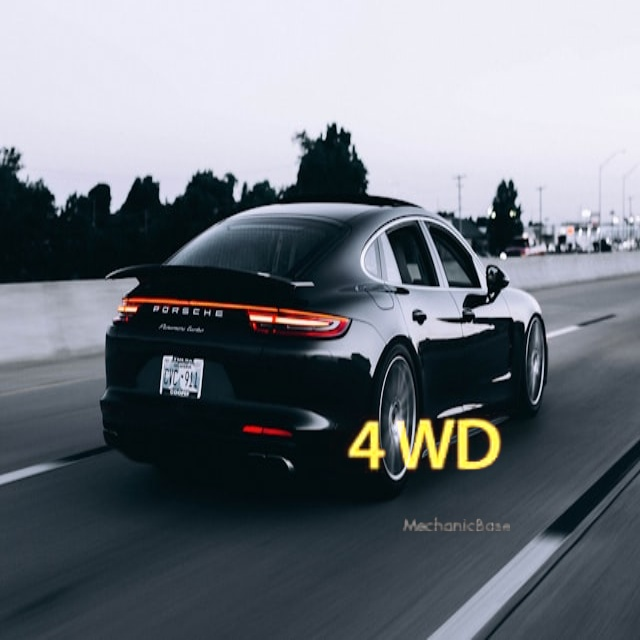symbol: (329, 352, 518, 541)
